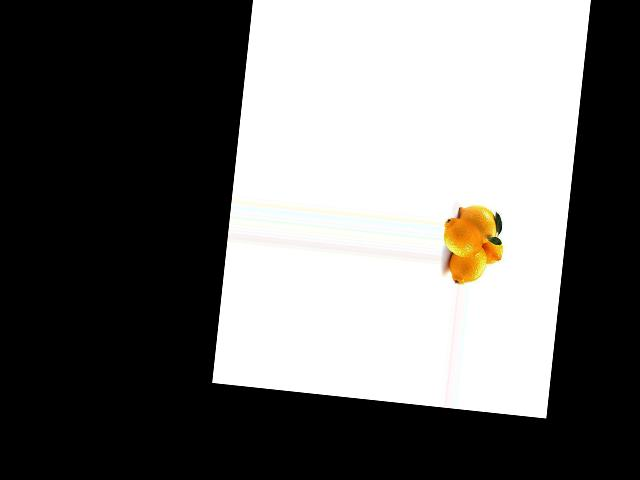lemon: (451, 242, 488, 288)
